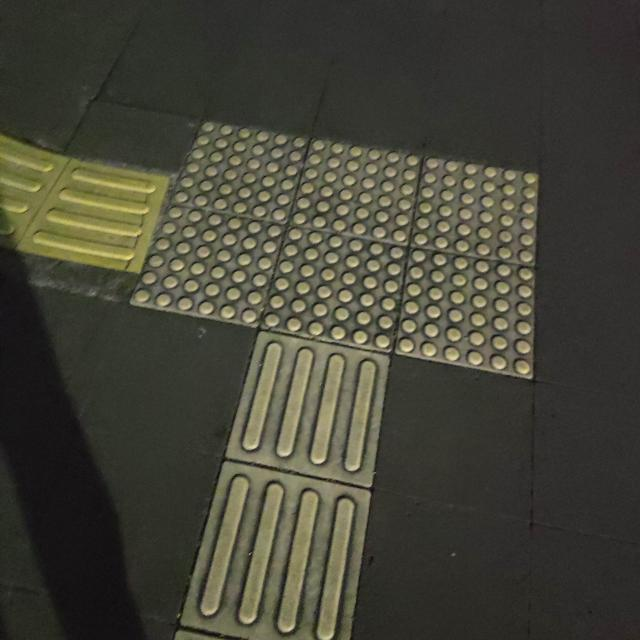kiri: (0, 111, 481, 449)
